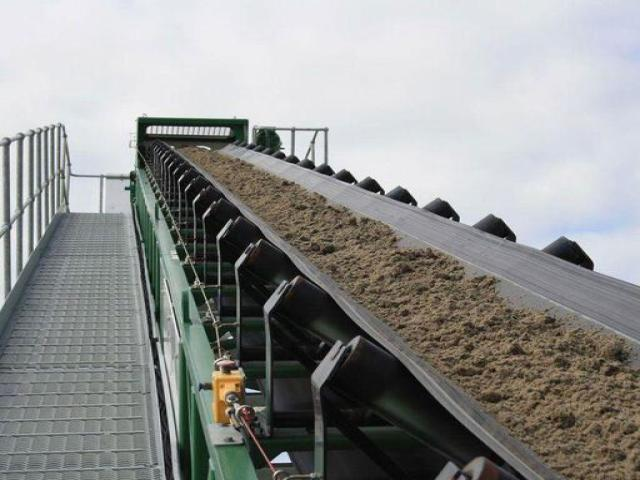conveyor: (129, 116, 639, 479)
